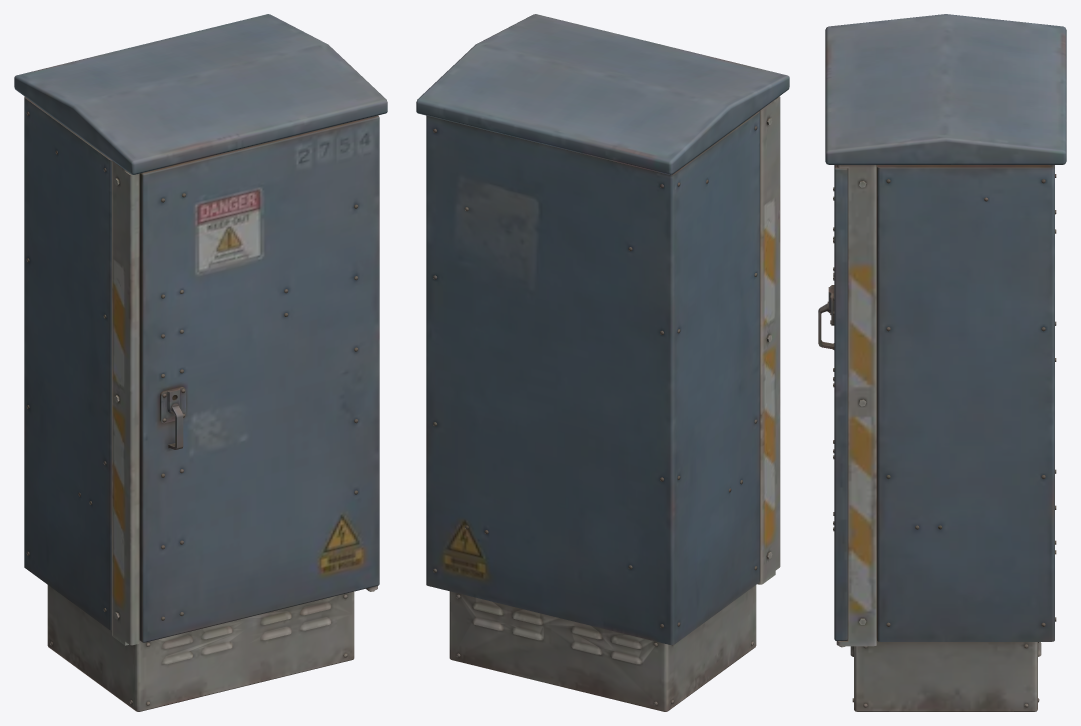
The model's file is ubox.glb.
3 views of the same model, side by side, from view 1: azimuth 30°, elevation 25°; view 2: azimuth 150°, elevation 25°; view 3: azimuth 270°, elevation 25° (orthographic).
Parts seen in each view (by area): view 1: utility_box_01_box; view 2: utility_box_01_box; view 3: utility_box_01_box.
Boxes of the visible parts, box(x1,y1,x2,y2) form: utility_box_01_box: box(14, 14, 387, 711); utility_box_01_box: box(416, 14, 789, 711); utility_box_01_box: box(818, 14, 1066, 711).
Bounding box in the file's own units: 0.52 × 1.12 × 0.4319.
1 material, 1 textured.
